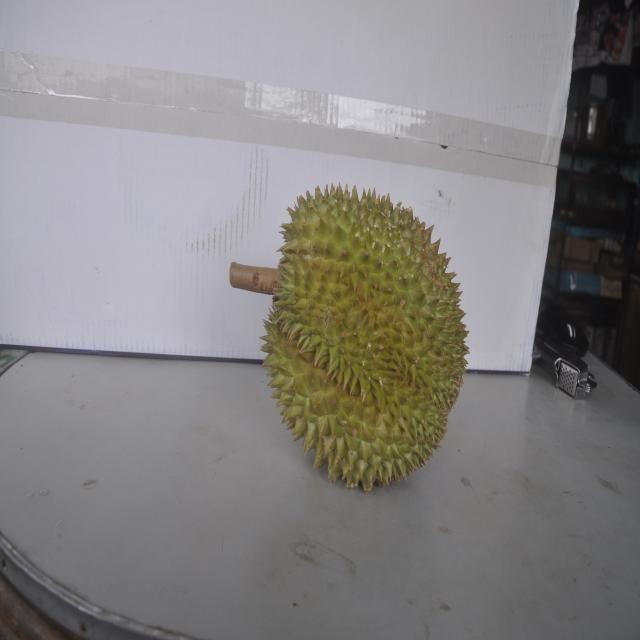mature: (255, 182, 465, 490)
